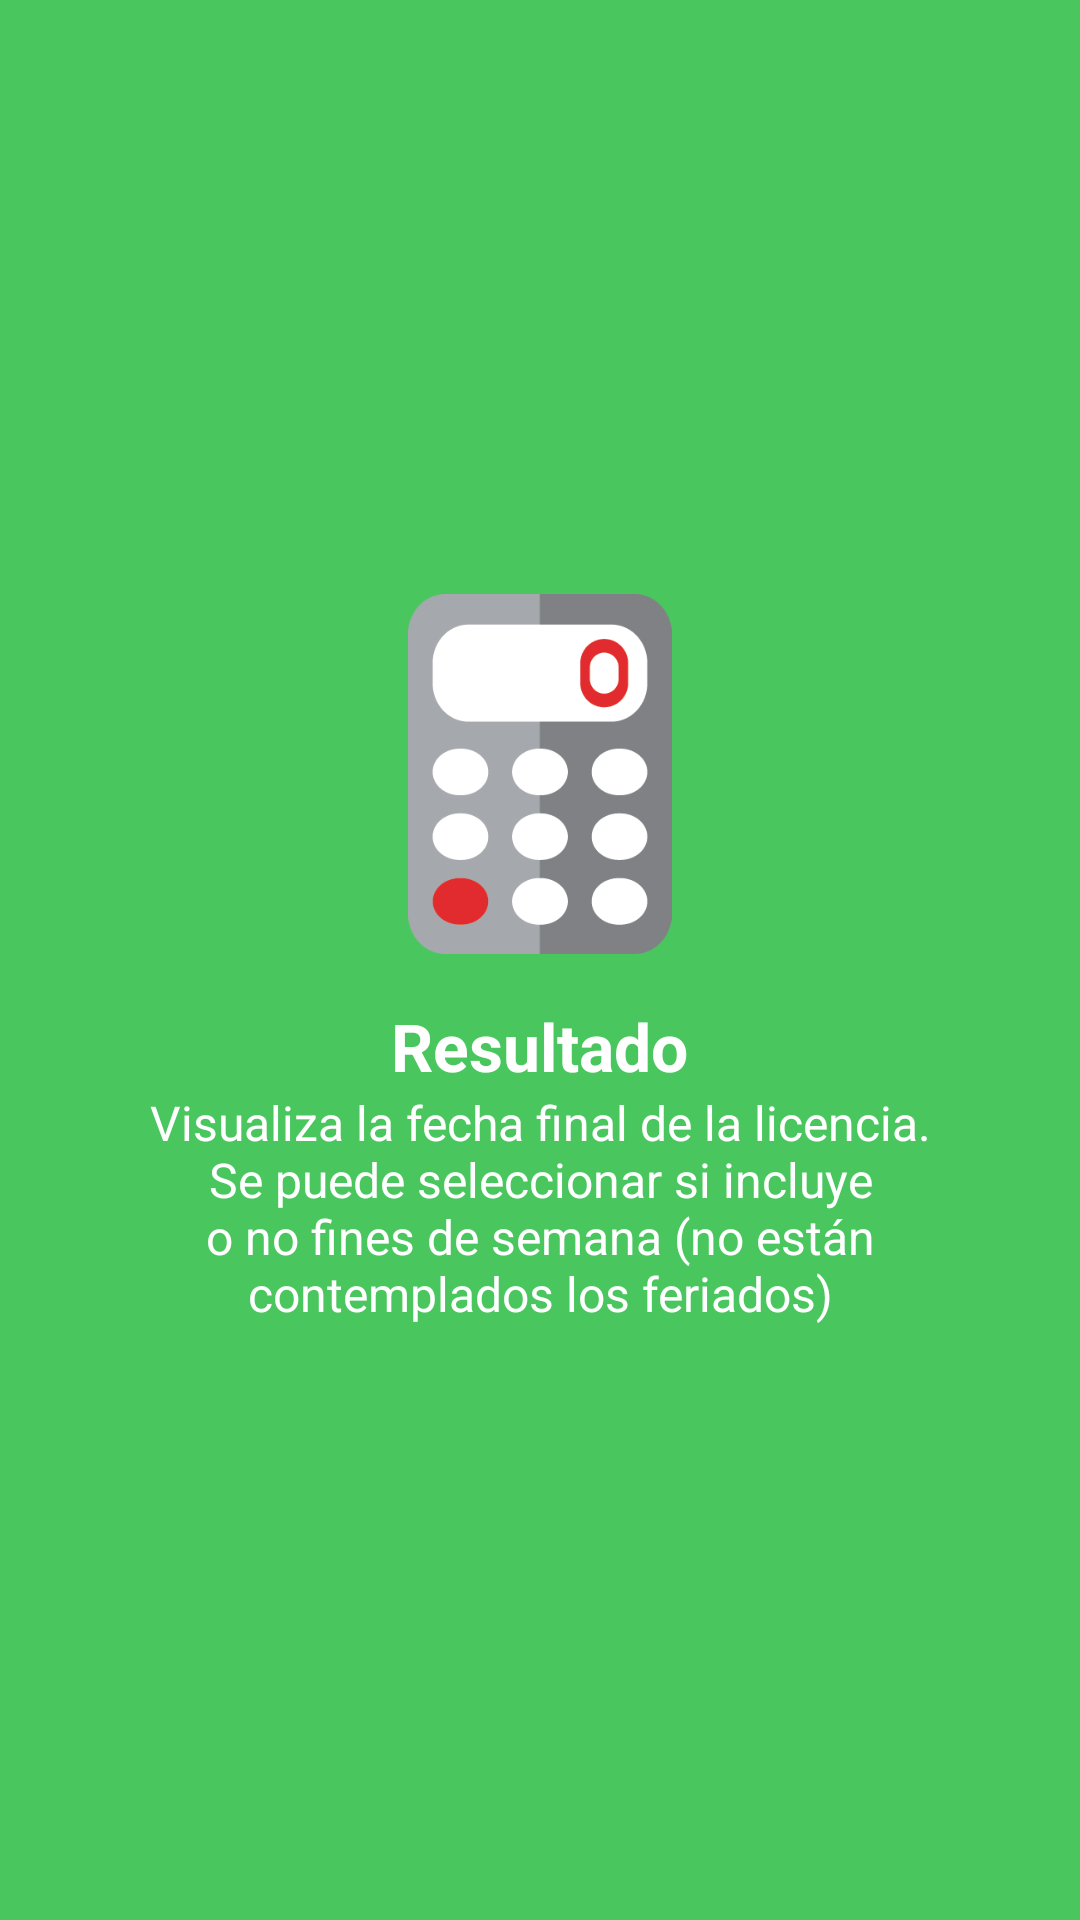

Locate icon controls on the screen. Image size 1080*1920, boxes as (x1, y1, x2, y2).
calculadora: (408, 594, 672, 954)
